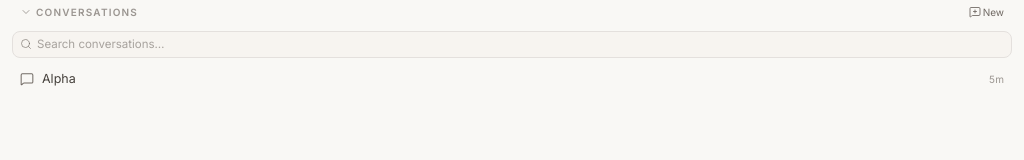
Test: ConversationsList (production sidebar component) › shows 'No matches.' when a search yields zero results
This screenshot has width=1024, height=160.
expect the element with test id "nav-conversation-c1" is shown: met, box [20,71,1004,86]
Type "zzz" into the field with test id "input-conversation-search" at (512, 45), box [12,31,1012,58]
Wait 250 ms
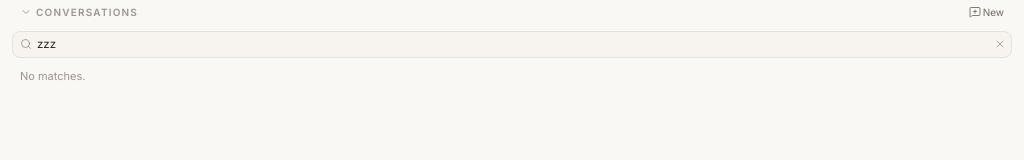
expect the text with test id "conversations-empty" reads "No matches.": met, box [20,69,86,83]
